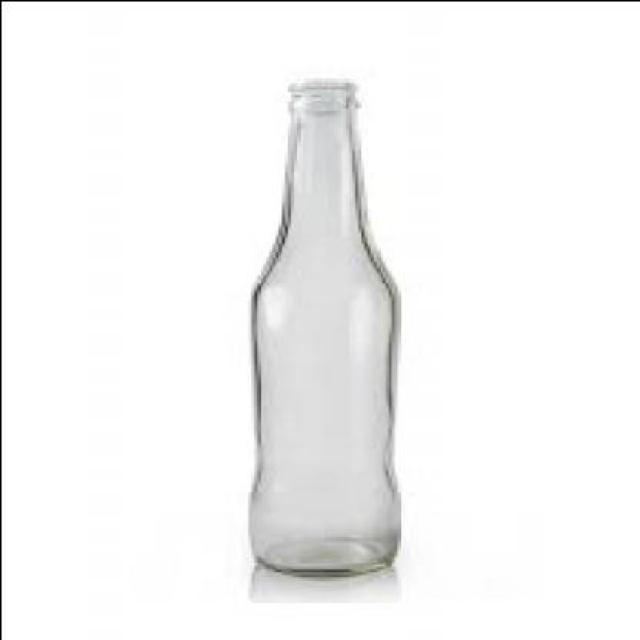GLASS: (250, 75, 402, 573)
